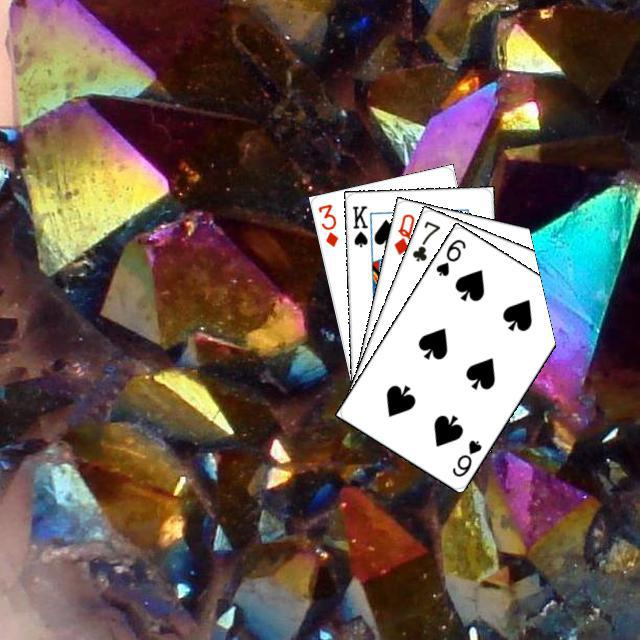3d: (313, 199, 340, 248)
6s: (431, 234, 468, 278), (447, 435, 483, 479)
7c: (407, 216, 442, 263)
Ks: (348, 201, 369, 249)
Qd: (389, 209, 416, 256)
